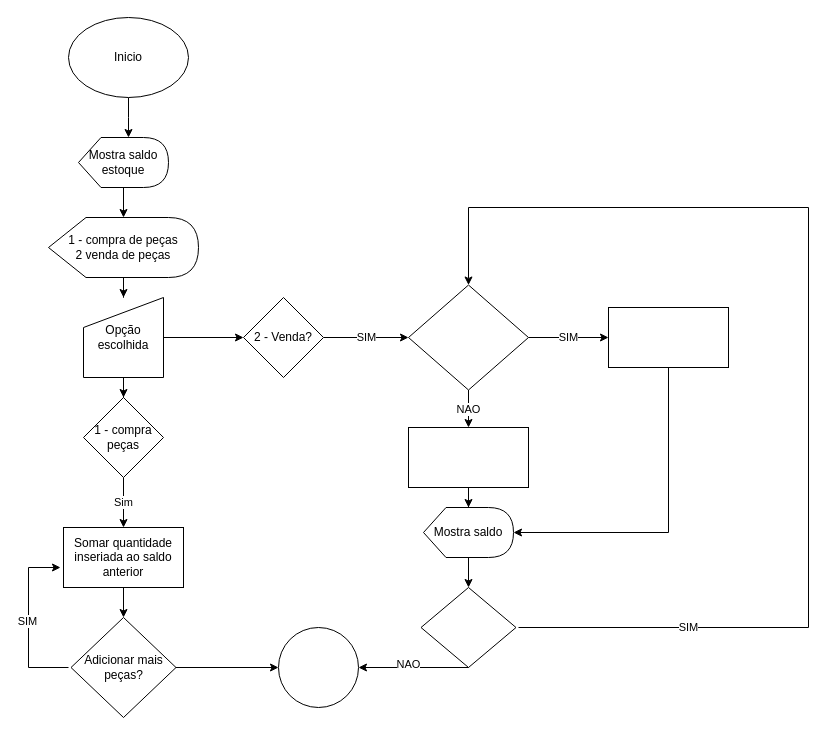
The diagram is 834 pixels wide and 735 high, and some of its shapes have lost their labels. Each missing label, with the centre of its shape:
"Deseja continuar?" belongs at point 468,627.
"Fim" belongs at point 318,667.
"quantidade <= estoque?" belongs at point 468,337.
"Retirar peça para venda" belongs at point 668,337.
"Saldo insuficiente" belongs at point 468,457.
